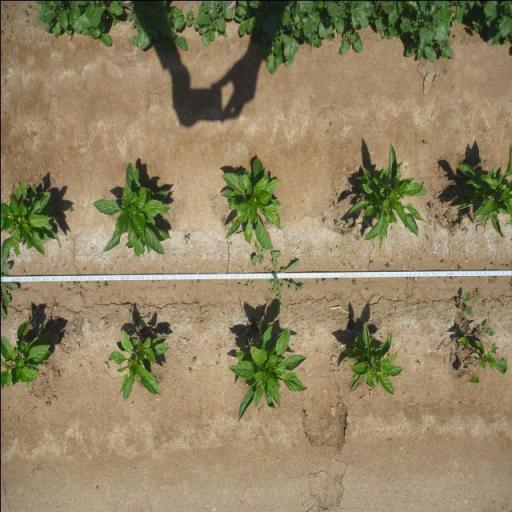plant: (224, 315, 312, 424), (349, 143, 428, 253), (91, 160, 172, 259), (223, 154, 282, 250), (455, 144, 512, 238), (339, 318, 405, 398), (106, 326, 174, 403), (0, 178, 56, 258), (0, 318, 58, 393), (454, 336, 509, 383)
weed: (259, 0, 401, 76), (126, 0, 257, 55), (401, 0, 512, 64), (35, 0, 127, 48), (264, 249, 304, 300), (0, 256, 18, 320), (456, 290, 472, 315), (477, 318, 495, 337), (249, 246, 266, 266), (19, 7, 29, 17), (182, 232, 190, 244), (488, 275, 497, 283), (444, 209, 450, 219), (333, 218, 340, 226), (220, 215, 226, 223), (191, 355, 197, 363), (302, 409, 308, 417), (245, 278, 253, 284), (56, 240, 61, 249), (320, 216, 326, 223), (350, 279, 356, 286), (456, 264, 462, 270), (436, 215, 442, 221), (428, 202, 434, 208), (384, 262, 390, 268), (334, 277, 340, 283), (340, 230, 346, 236), (266, 267, 272, 273), (67, 206, 73, 212), (446, 220, 453, 225), (422, 138, 427, 145), (102, 281, 107, 288), (127, 308, 131, 316), (26, 2, 30, 10), (440, 258, 445, 264), (462, 228, 468, 233), (368, 260, 374, 265), (475, 288, 479, 294), (405, 276, 411, 280), (322, 278, 326, 284), (304, 279, 308, 285), (228, 240, 232, 246), (188, 367, 191, 374), (346, 220, 350, 225), (417, 360, 421, 365), (195, 279, 200, 283), (315, 277, 318, 283), (263, 266, 266, 272), (172, 284, 175, 290), (237, 282, 240, 287)
